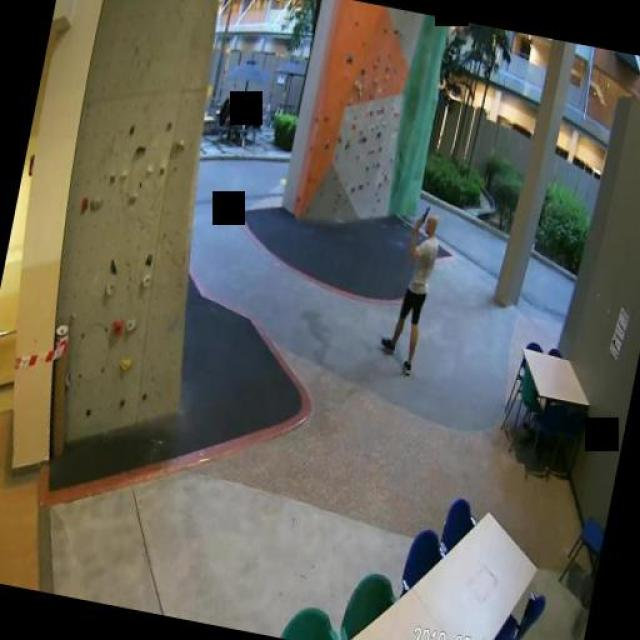gun: (418, 204, 428, 222)
